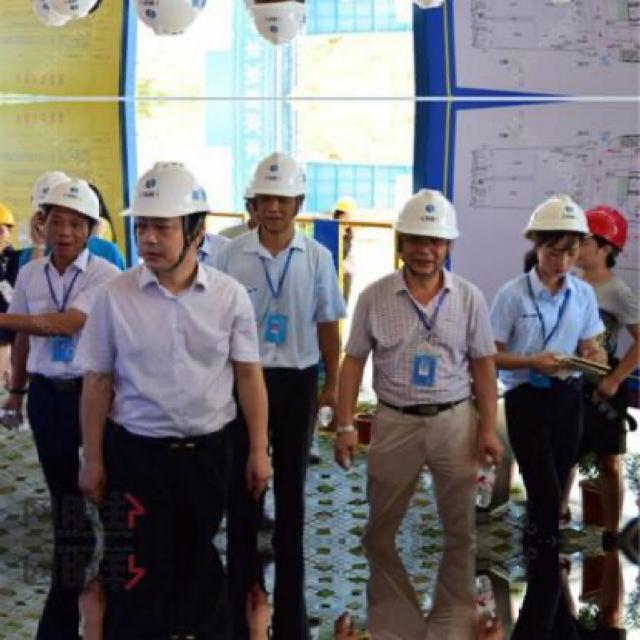helmet: (130, 163, 216, 270), (389, 190, 465, 288), (242, 142, 316, 240), (531, 191, 598, 281), (42, 171, 102, 262), (240, 0, 315, 57), (582, 199, 629, 276), (128, 0, 216, 35), (42, 0, 103, 28), (3, 199, 19, 257)
